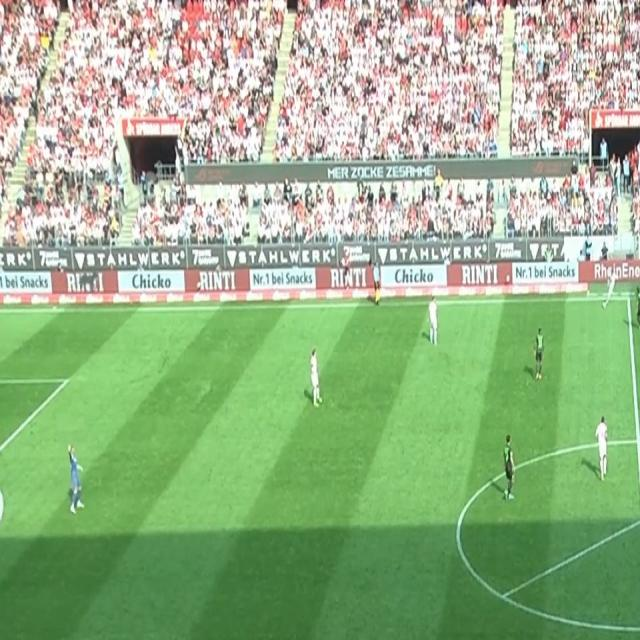ball: (602, 300, 606, 310)
